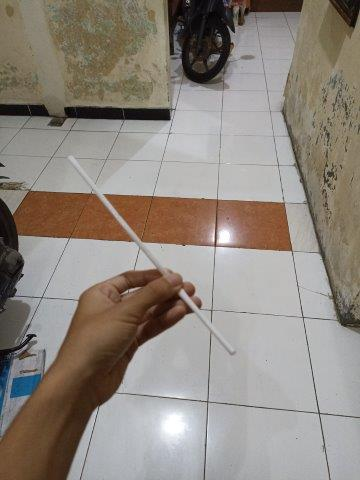sedotan: (68, 156, 233, 353)
